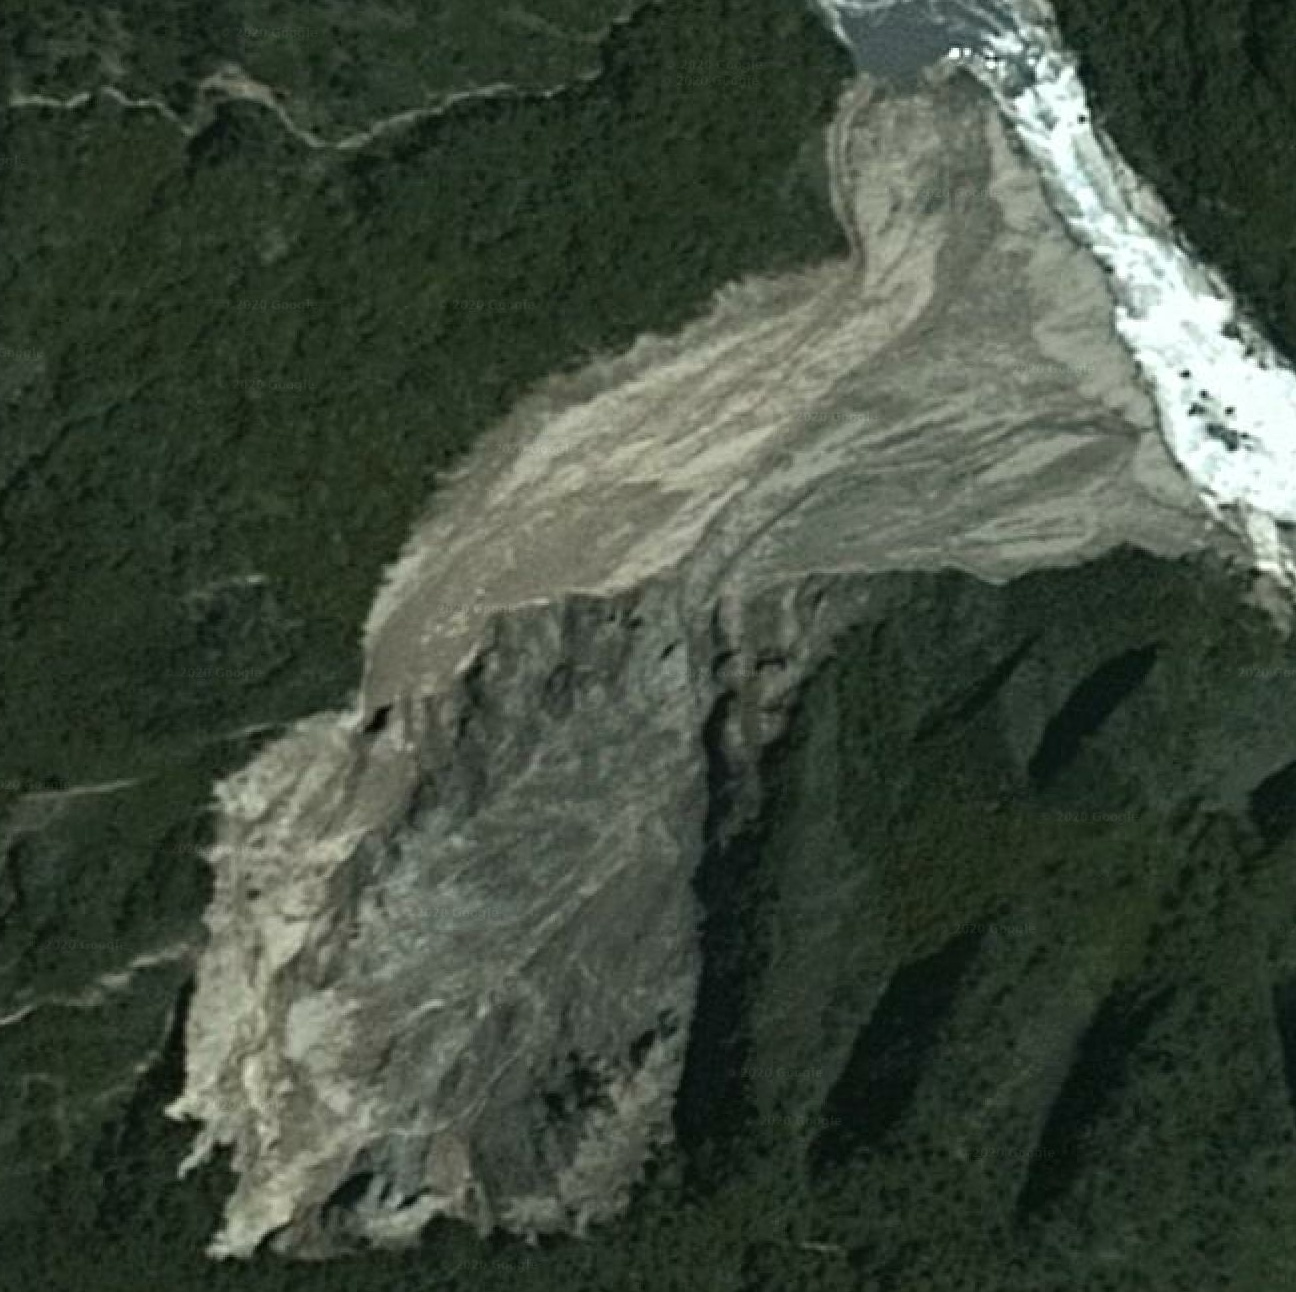slope: (138, 62, 1295, 1278)
